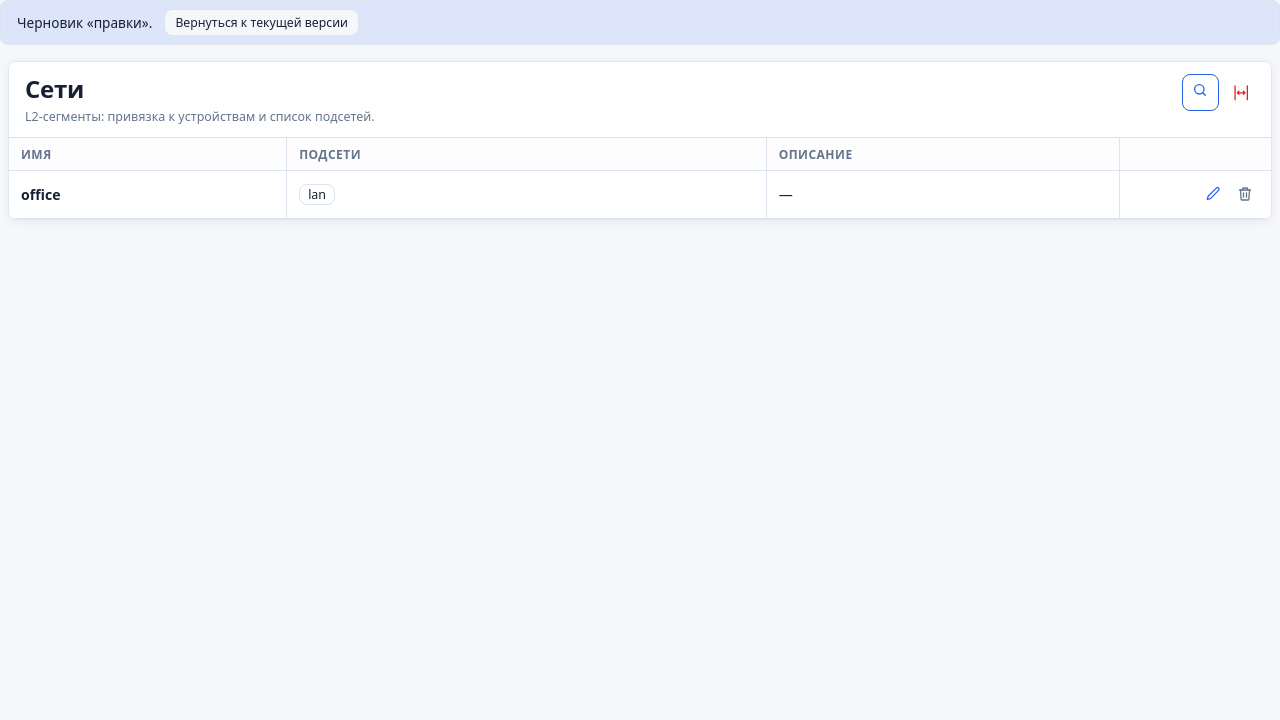
NetworksPage › saves a rename through the update-network operation
This screenshot has width=1280, height=720.
Expected: the text "office" is shown, 9,170 -> 287,218
Click the button titled "Изменить сеть office". click: (1213, 194)
box: 1199,180 -> 1227,208
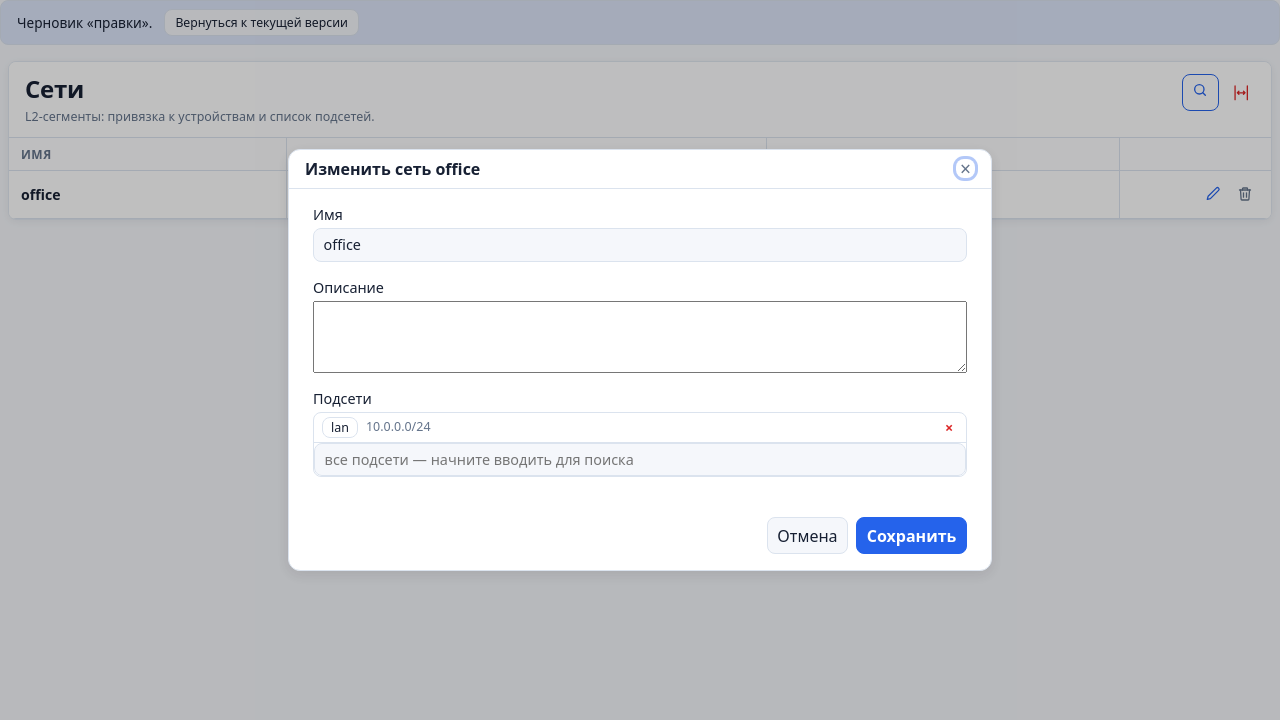
Clear the field labelled "Имя". click: (640, 245)
box: 313,228 -> 967,262
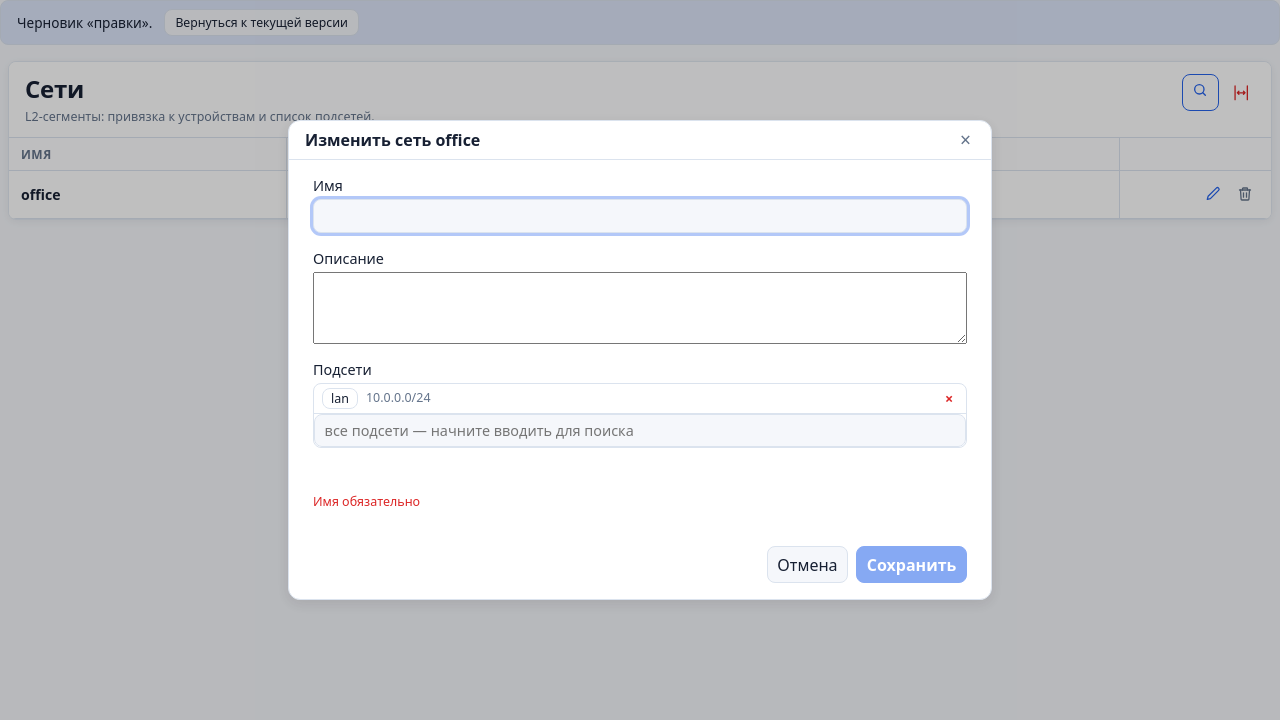
Type "office2" into the field labelled "Имя". click: (640, 216)
box: 313,199 -> 967,233
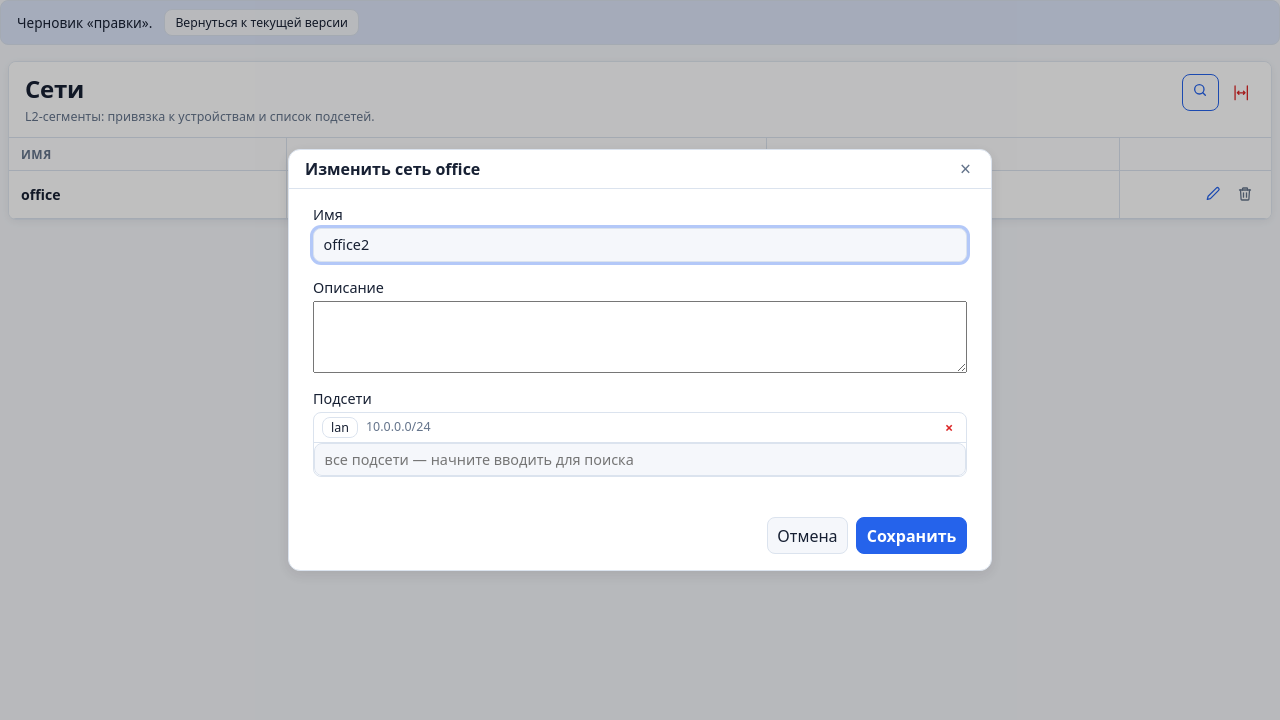
Click the button "Сохранить". click: (912, 536)
box: 856,517 -> 967,554
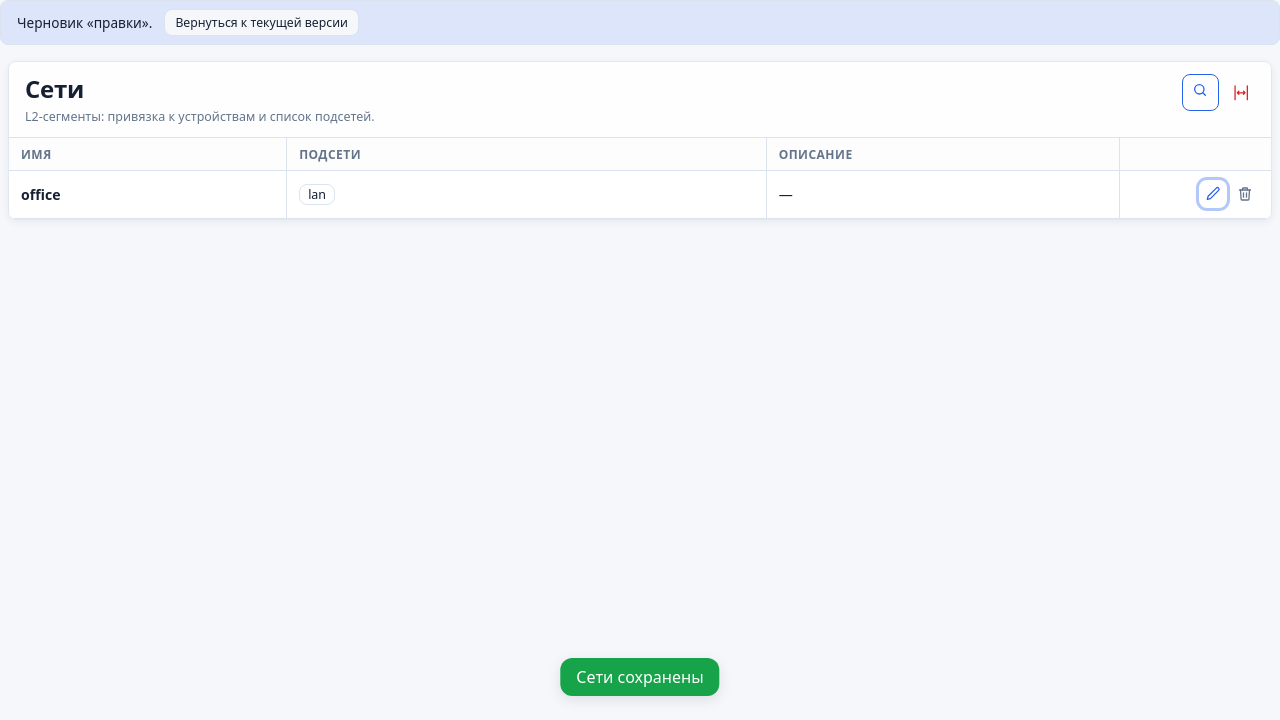
Expected: the text "Сети сохранены" is shown, 560,658 -> 720,696
